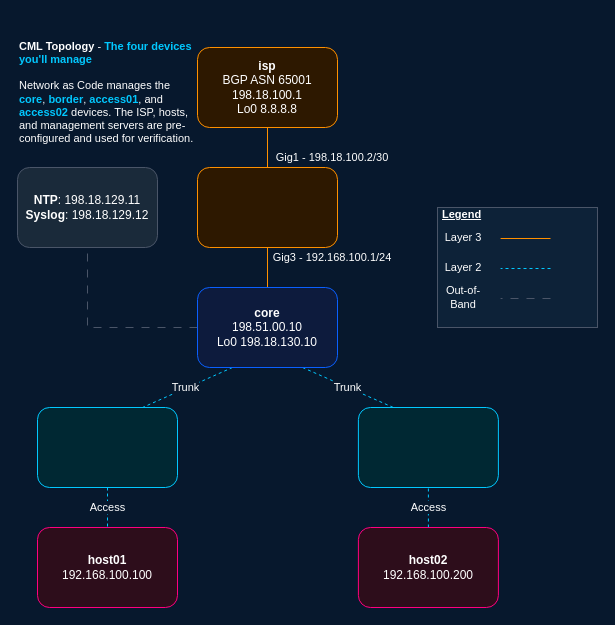
The diagram is 615 pixels wide and 625 high, and some of its shapes have lost their labels. The centre of each missing label's shape, as x and y in pixels:
access01 198.18.130.11: the point at 107,447
access02 198.18.130.12: the point at 427,447
border BGP ASN 65000 198.18.130.20: the point at 267,207
